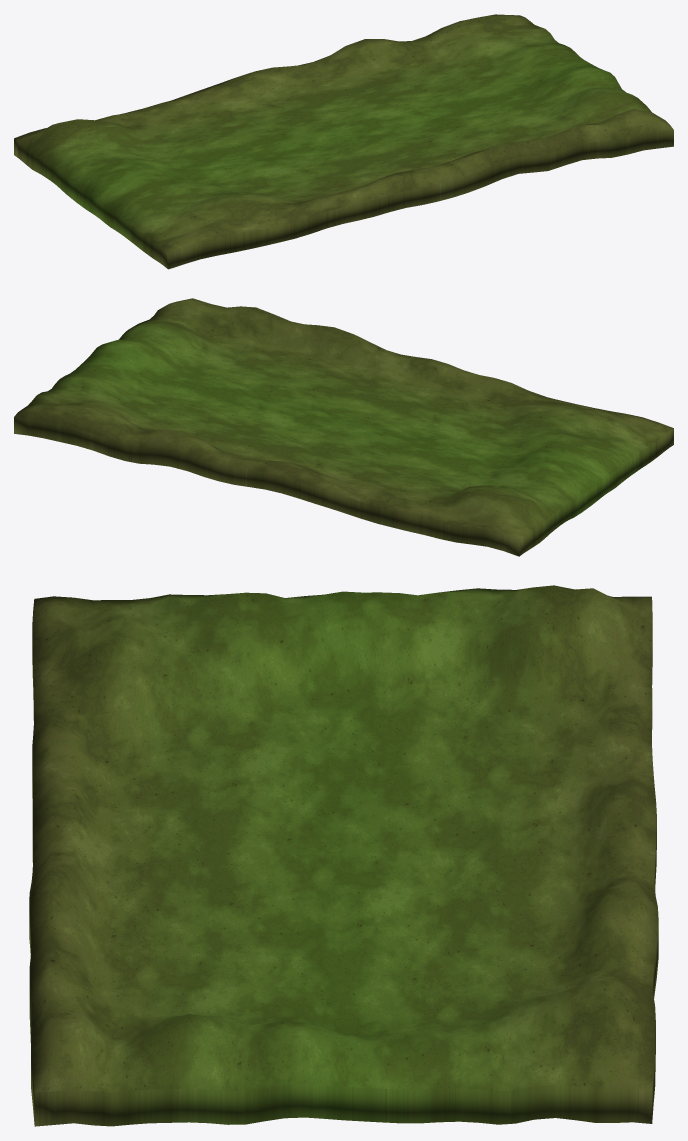
The model's file is ground.obj.
The picture shows the model from 3 angles, top to bottom: view 1: azimuth 30°, elevation 25°; view 2: azimuth 150°, elevation 25°; view 3: azimuth 270°, elevation 25°; orthographic projection. The views are drawn at different scales.
Parts seen in each view (by area): view 1: Plane.003_Plane.004; view 2: Plane.003_Plane.004; view 3: Plane.003_Plane.004.
Part boxes in pixels (box(x1,y1,x2,y2)): Plane.003_Plane.004: box(14, 14, 673, 269); Plane.003_Plane.004: box(14, 298, 673, 556); Plane.003_Plane.004: box(29, 585, 658, 1126).
Size of the model in its own units: 985 by 77.78 by 525.
